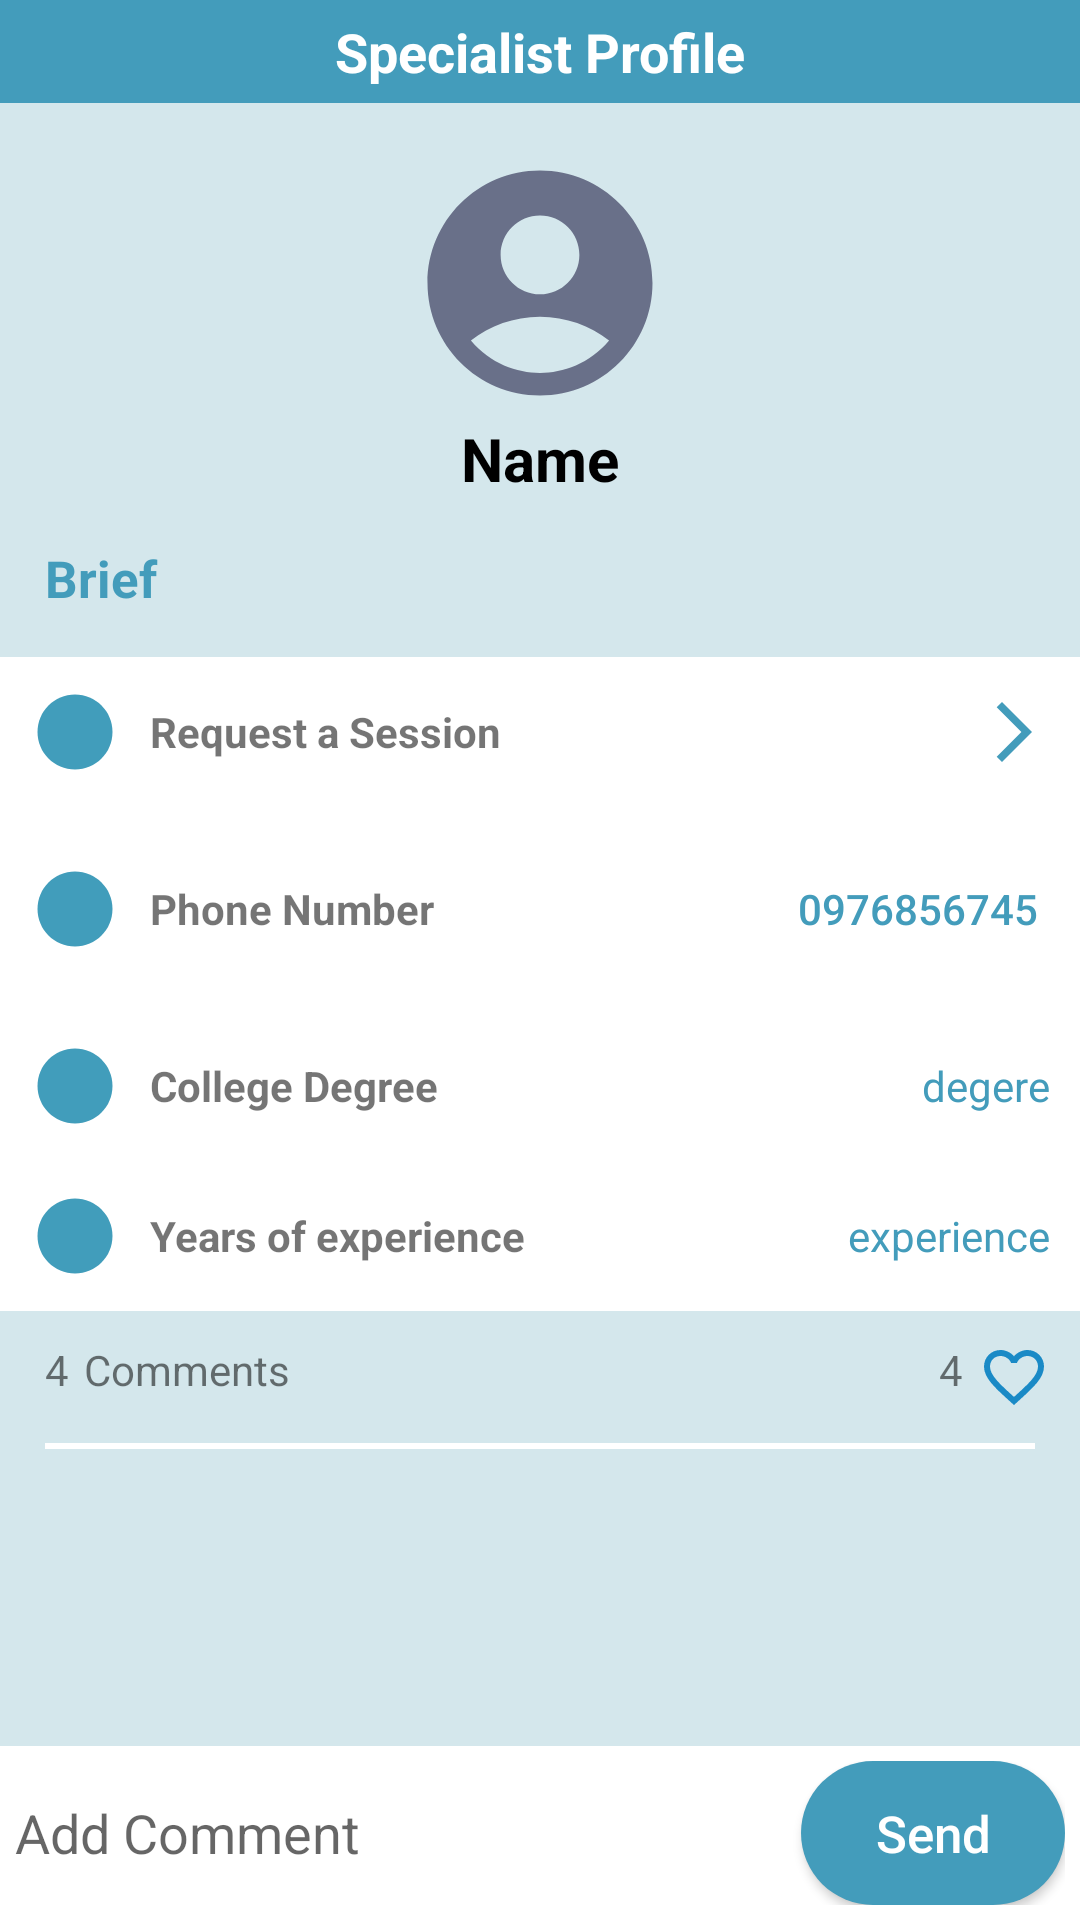

Point at icon controls on the screen. Image size 1080 × 1920, points as point (x, y).
account circle: point (540, 283)
arrow forward: point (1014, 732)
favorite border: point (1014, 1377)
